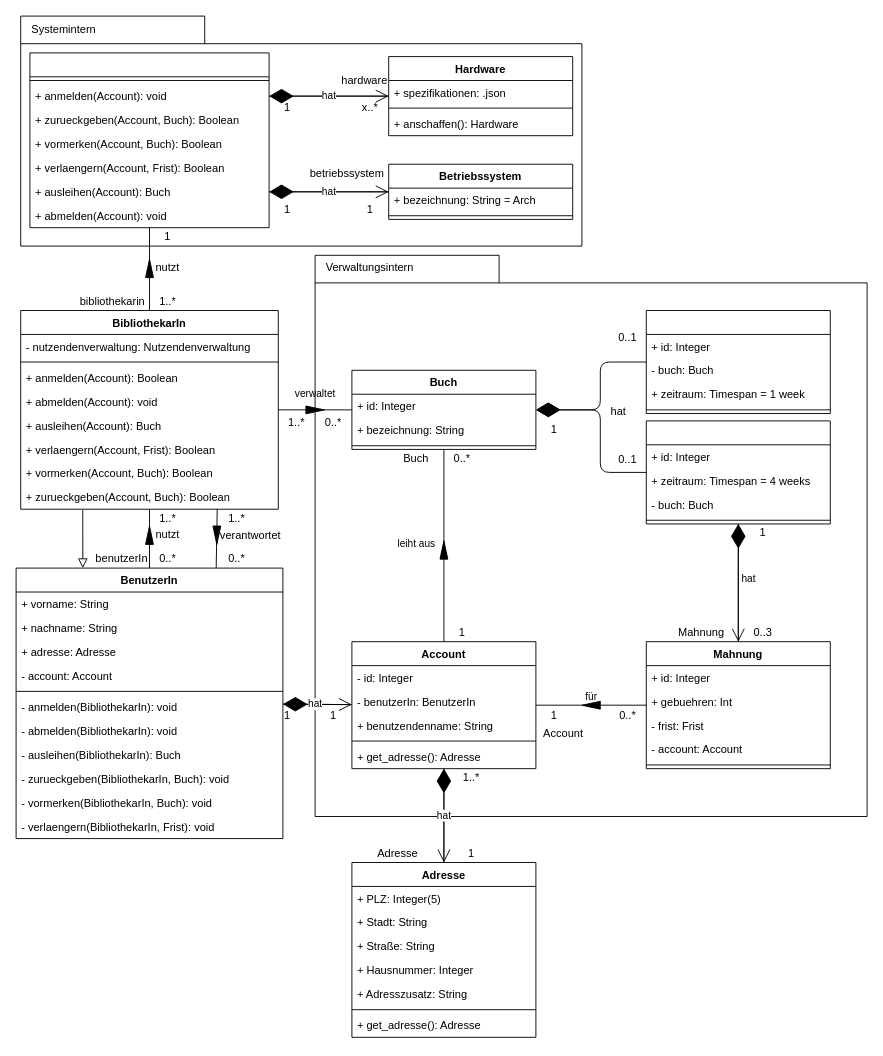
This 883x1056 diagram has some shape labels left out. The box of each missing label's shape, as (x1, y1, x2, y2) in pixels:
Frist: (645, 420, 830, 524)
Nutzendenverwaltung: (29, 52, 269, 228)
Vormerkung: (645, 310, 830, 414)
